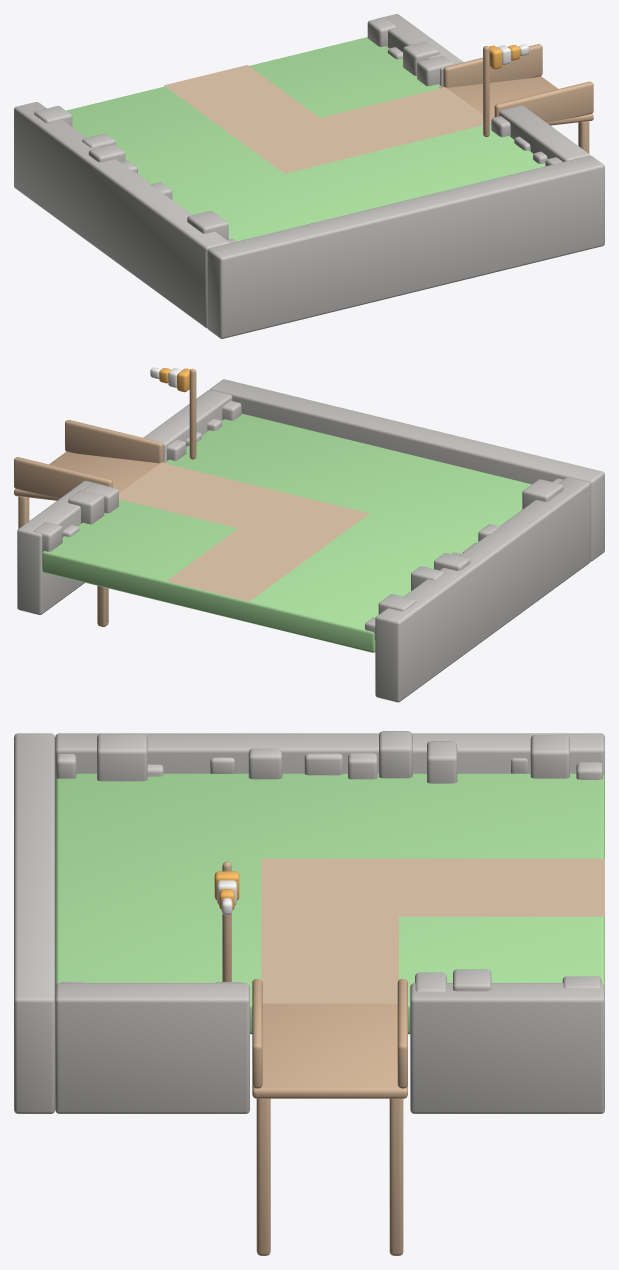
Rendered from chunk_glide_launch.glb.
3 views of the same model, one above another, from view 1: azimuth 30°, elevation 25°; view 2: azimuth 150°, elevation 25°; view 3: azimuth 270°, elevation 25° (orthographic). The views are drawn at different scales.
Visible parts, largest first — view 1: Chunk_Launch_surface, Chunk_Launch_cliff_n, Chunk_Launch_cliff, Chunk_Launch_path_ramp, Chunk_Launch_path_in, Chunk_Launch_cliff_ehi, Chunk_Launch_ramprail_n_cliff, Chunk_Launch_ramp_surface, Chunk_Launch_ramprail_s_cliff, Chunk_Launch_cliff_elo, Chunk_Launch_rock_l12, Chunk_Launch_rock_e2 (+5 smaller); view 2: Chunk_Launch_surface, Chunk_Launch_cliff, Chunk_Launch_cliff_n, Chunk_Launch_path_ramp, Chunk_Launch_path_in, Chunk_Launch_cliff_elo, Chunk_Launch_ramprail_n_cliff, Chunk_Launch_ramp_surface, Chunk_Launch_ramprail_s_cliff, Chunk_Launch_cliff_ehi, Chunk_Launch_rock_e2, Chunk_Launch_rock_l12 (+7 smaller); view 3: Chunk_Launch_surface, Chunk_Launch_cliff_ehi, Chunk_Launch_cliff_elo, Chunk_Launch_path_ramp, Chunk_Launch_cliff_n, Chunk_Launch_ramp_surface, Chunk_Launch_cliff, Chunk_Launch_path_in, Chunk_Launch_rock_l12, Chunk_Launch_ramp_leg1, Chunk_Launch_ramp_leg0, Chunk_Launch_rock_l1 (+9 smaller).
Boxes of the visible parts, x1,y1,x2,y2 form: Chunk_Launch_surface: (66,37,545,241); Chunk_Launch_cliff_n: (207,155,604,338); Chunk_Launch_cliff: (14,102,229,328); Chunk_Launch_path_ramp: (236,87,491,173); Chunk_Launch_path_in: (164,65,367,173); Chunk_Launch_cliff_ehi: (499,105,590,161); Chunk_Launch_ramprail_n_cliff: (494,81,593,122); Chunk_Launch_ramp_surface: (439,76,593,125); Chunk_Launch_ramprail_s_cliff: (443,44,542,87); Chunk_Launch_cliff_elo: (383,14,463,86); Chunk_Launch_rock_l12: (187,211,228,239); Chunk_Launch_rock_e2: (403,41,439,75); Chunk_Launch_surface: (42,413,531,652); Chunk_Launch_cliff: (375,477,590,702); Chunk_Launch_cliff_n: (210,379,604,561); Chunk_Launch_path_ramp: (119,462,369,548); Chunk_Launch_path_in: (166,516,365,601); Chunk_Launch_cliff_elo: (17,481,106,614); Chunk_Launch_ramprail_n_cliff: (65,420,163,463); Chunk_Launch_ramp_surface: (14,451,167,500); Chunk_Launch_ramprail_s_cliff: (14,457,112,497); Chunk_Launch_cliff_ehi: (143,390,232,461); Chunk_Launch_rock_e2: (68,490,104,524); Chunk_Launch_rock_l12: (522,479,563,509); Chunk_Launch_surface: (55,773,604,1034); Chunk_Launch_cliff_ehi: (55,983,249,1113); Chunk_Launch_cliff_elo: (410,983,604,1113); Chunk_Launch_path_ramp: (261,858,398,1003); Chunk_Launch_cliff_n: (14,733,55,1113); Chunk_Launch_ramp_surface: (252,1003,407,1098); Chunk_Launch_cliff: (55,733,604,776); Chunk_Launch_path_in: (399,858,604,916); Chunk_Launch_rock_l12: (97,734,147,781); Chunk_Launch_ramp_leg1: (256,1098,270,1255); Chunk_Launch_ramp_leg0: (389,1098,403,1255); Chunk_Launch_rock_l1: (530,735,569,778).
Bounding box in the file's own units: 32.8 × 15.2 × 25.8.
